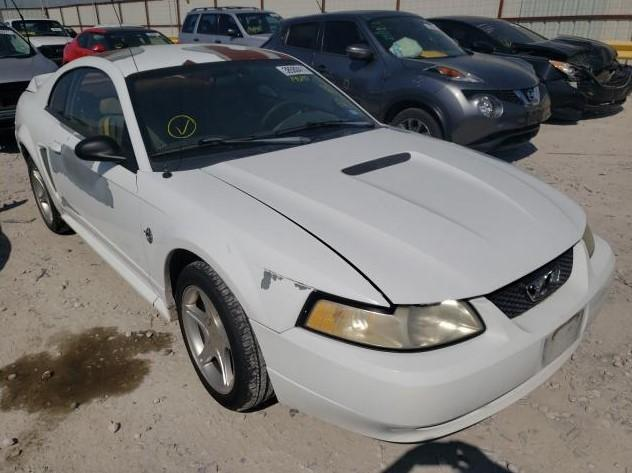Back-wheel: (28, 159, 76, 236)
Back-window: (51, 72, 74, 113)
Fender: (137, 169, 392, 333)
Front-bumper: (249, 233, 616, 444)
Front-door: (53, 66, 155, 293)
Front-wheel: (175, 260, 276, 411)
Front-window: (69, 69, 124, 146), (72, 66, 124, 147)
Grille: (486, 247, 572, 317)
Headlight: (299, 291, 484, 351), (583, 222, 595, 257)
Hood: (200, 127, 586, 304)
License-plate: (543, 310, 584, 368)
Mirror: (75, 120, 138, 173)
Quarter-panel: (14, 90, 58, 209)
Rocker-panel: (59, 207, 155, 306)
Roof: (75, 43, 295, 76)
Trunk: (26, 73, 54, 92)
Windshield: (125, 58, 381, 171)
